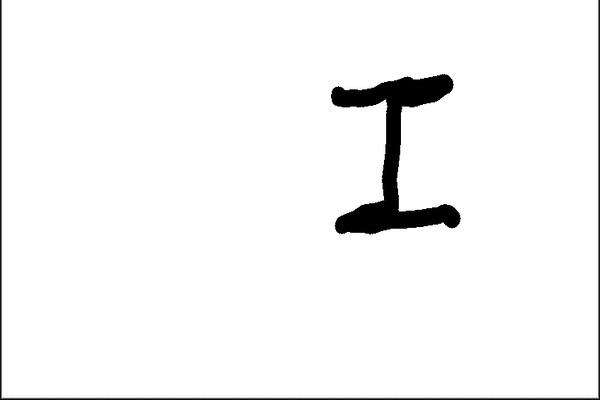i: (322, 64, 469, 239)
